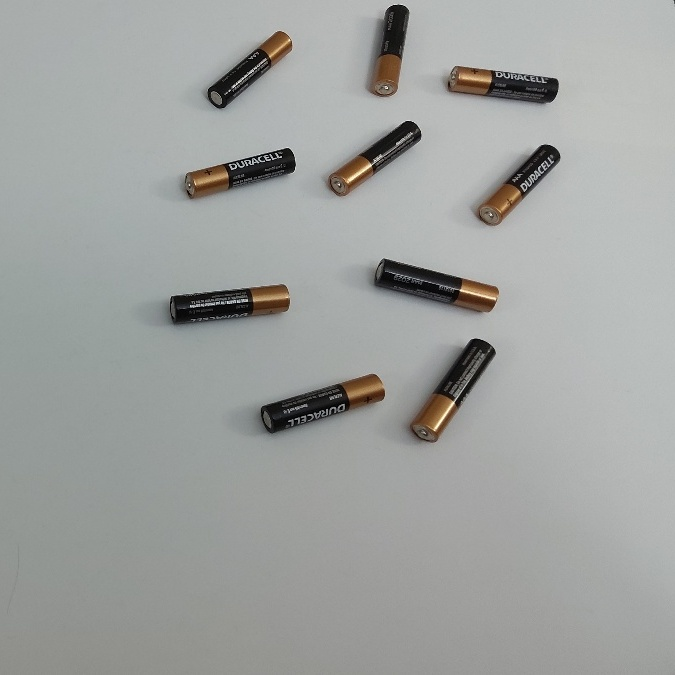battery: (409, 332, 493, 446), (374, 250, 499, 315), (261, 371, 387, 435), (326, 116, 417, 200), (168, 268, 290, 328), (178, 143, 300, 202), (208, 26, 294, 109), (479, 140, 558, 226), (442, 55, 562, 106), (364, 1, 410, 99)
